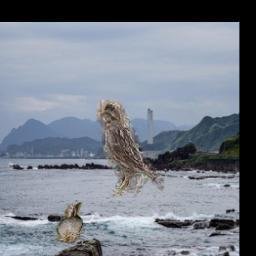Sparrow: (98, 101, 165, 198), (56, 203, 83, 244)
